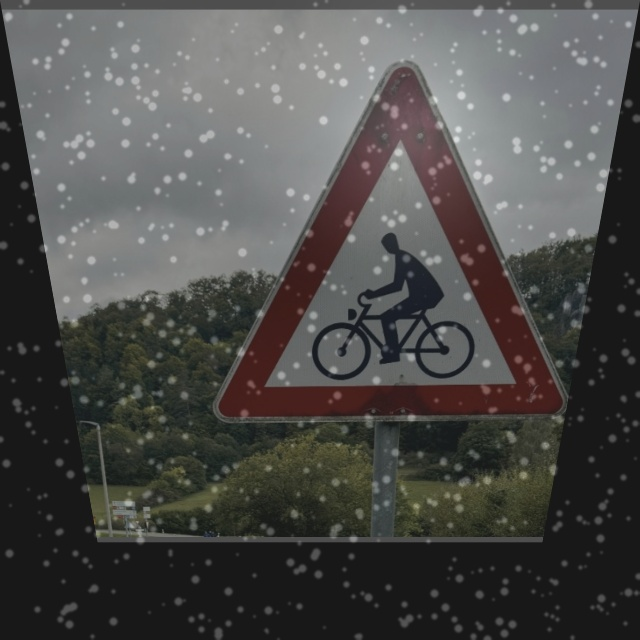Cycle_Crossing: (202, 55, 614, 424)
